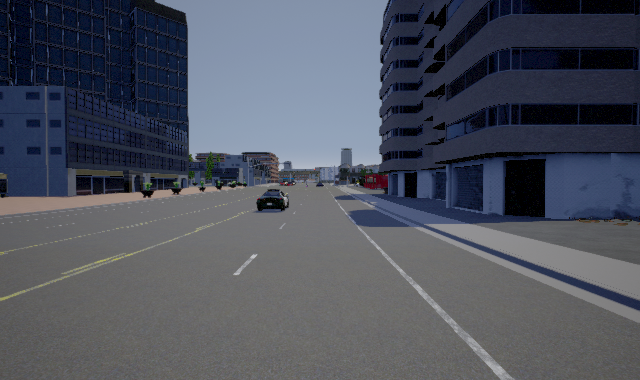vehicle: (256, 189, 289, 211)
